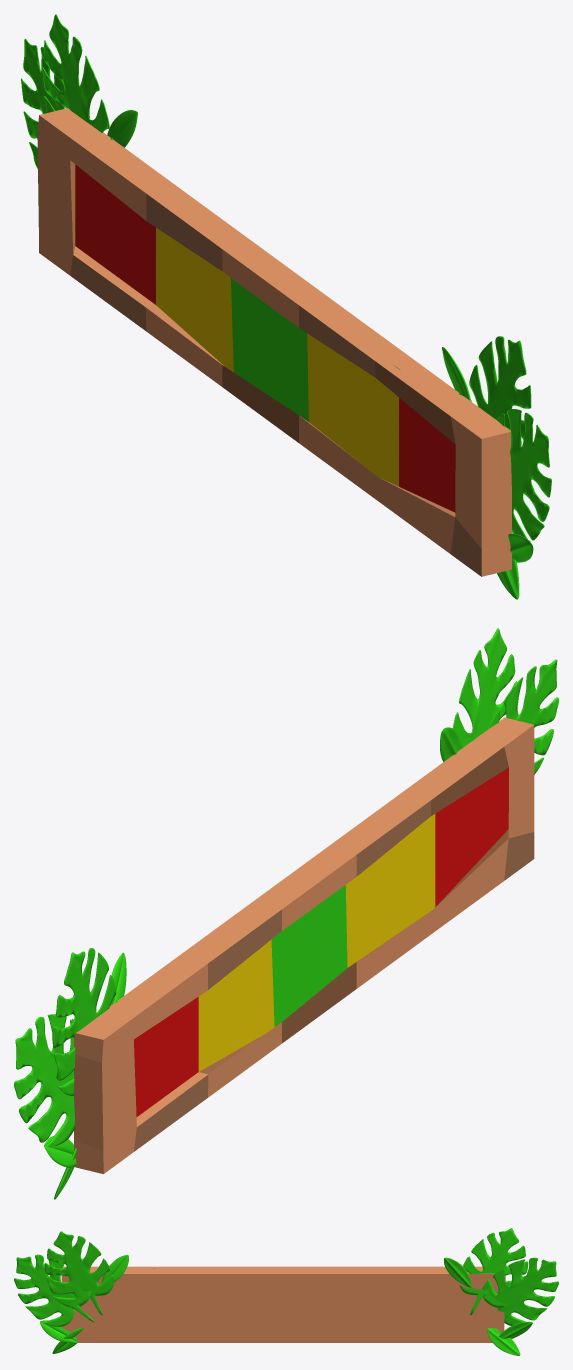
Rendered from Barra moai.fbx.
3 views of the same model, one above another, from view 1: azimuth 30°, elevation 25°; view 2: azimuth 150°, elevation 25°; view 3: azimuth 270°, elevation 25° (orthographic). The views are drawn at different scales.
Visible parts, largest first — view 1: Bar (completed, Leaf monstera.005, Leaf monstera, Leaf monstera.004, Leaf monstera.002, Leaf; view 2: Bar (completed, Leaf monstera.002, Leaf monstera, Leaf monstera.004, Leaf monstera.005; view 3: Bar (completed, Leaf monstera.004, Leaf monstera.002, Leaf monstera.005, Leaf monstera, Leaf.002, Leaf, Leaf.006, Leaf.007, Leaf.001, Leaf.008.
Boxes of the visible parts, x1,y1,x2,y2 form: Bar (completed: (37,108,511,576); Leaf monstera.005: (495,408,551,540); Leaf monstera: (42,14,112,139); Leaf monstera.004: (469,336,531,439); Leaf monstera.002: (21,39,64,168); Leaf: (107,110,137,147); Bar (completed: (74,717,534,1173); Leaf monstera.002: (14,1014,75,1146); Leaf monstera: (52,948,117,1095); Leaf monstera.004: (452,628,518,747); Leaf monstera.005: (487,659,558,774); Bar (completed: (61,1266,505,1342); Leaf monstera.004: (44,1231,113,1315); Leaf monstera.002: (482,1257,558,1325); Leaf monstera.005: (14,1254,94,1326); Leaf monstera: (459,1228,528,1315); Leaf.002: (487,1328,520,1355); Leaf: (444,1257,471,1287); Leaf.006: (101,1254,128,1282); Leaf.007: (40,1320,77,1343); Leaf.001: (498,1321,532,1338); Leaf.008: (52,1327,83,1353).
Size of the model in its own units: 61 by 363 by 1432.
